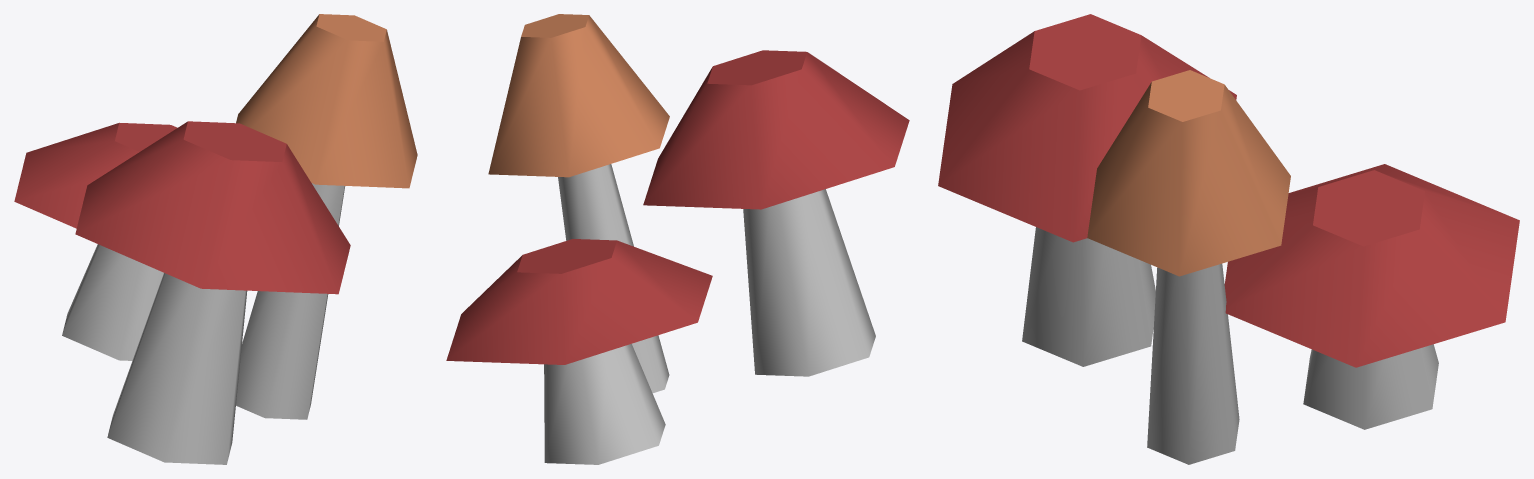
Rendered from cozy_lake_mushroom_04.glb.
3 views of the same model, side by side, from view 1: azimuth 30°, elevation 25°; view 2: azimuth 150°, elevation 25°; view 3: azimuth 270°, elevation 25° (orthographic). The views are drawn at different scales.
Parts seen in each view (by area): view 1: Mushroom_04; view 2: Mushroom_04; view 3: Mushroom_04.
Boxes of the visible parts, box(x1,y1,x2,y2) form: Mushroom_04: box(14, 14, 417, 464); Mushroom_04: box(446, 14, 909, 464); Mushroom_04: box(938, 14, 1519, 464).
Size of the model in its own units: 6.33 by 6.01 by 7.95.
